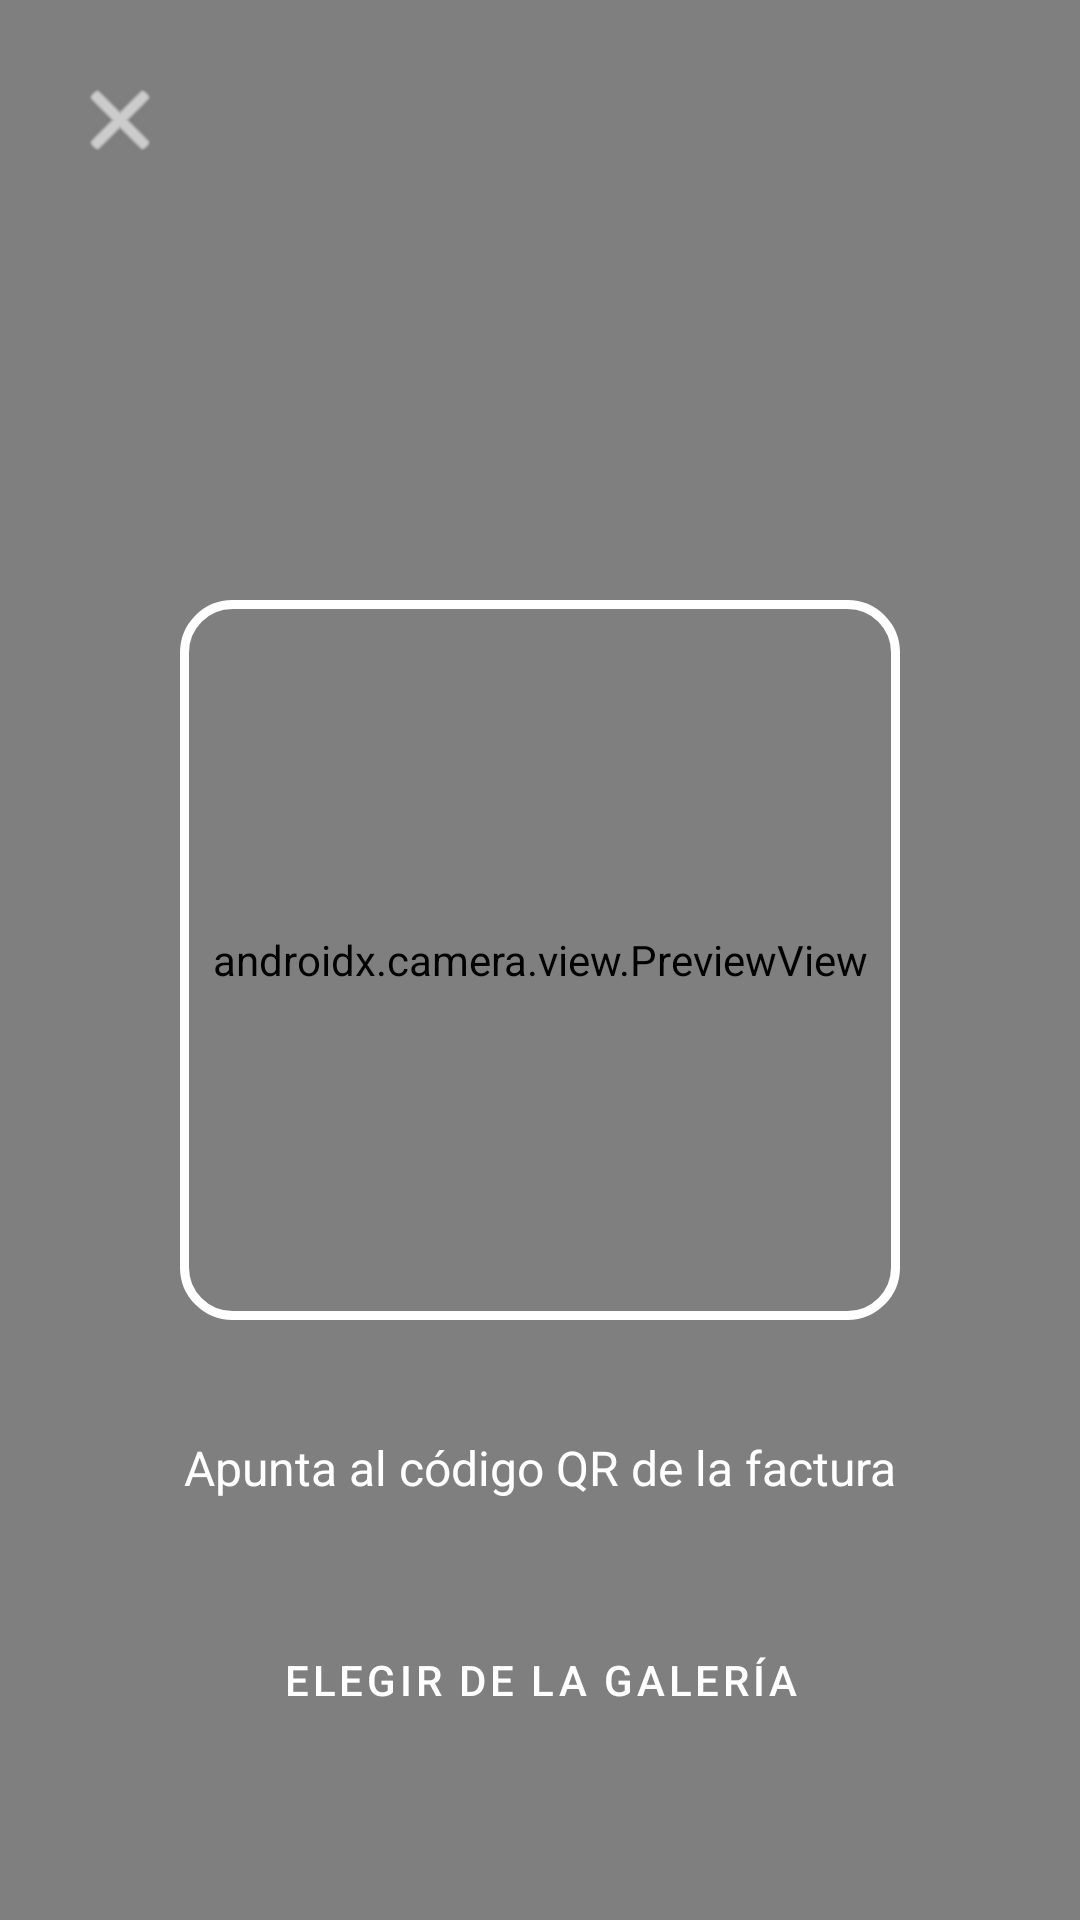

Locate icon controls on the screen. Image size 1080w x 1920h, boxes as [left=x1, top=y1, right=x2, bottom=y2].
Cancelar: [left=90, top=90, right=150, bottom=150]
